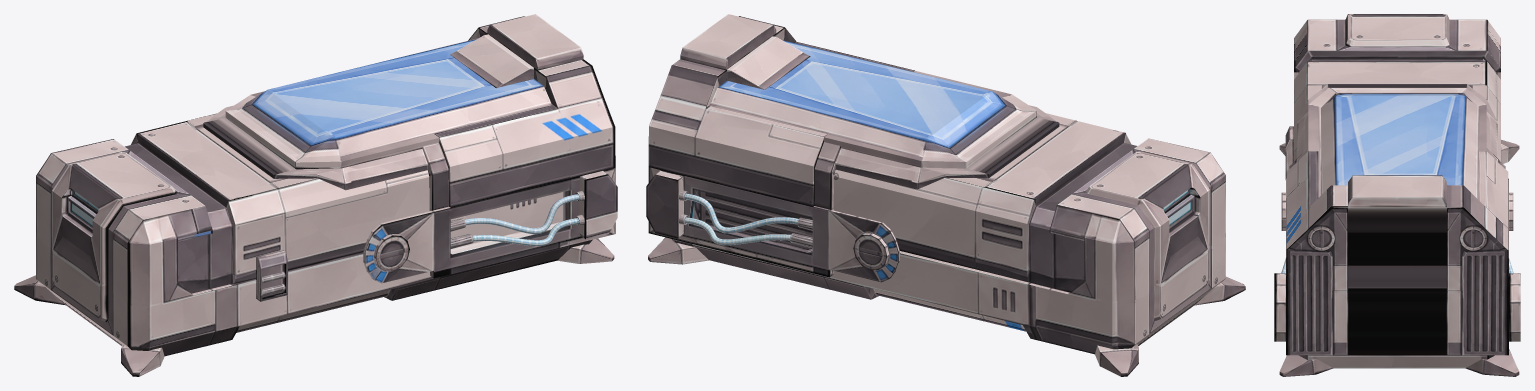
Rendered from 22_Capsule_Rere.fbx.
3 renders of one model, left to right at view 1: azimuth 30°, elevation 25°; view 2: azimuth 150°, elevation 25°; view 3: azimuth 270°, elevation 25°, orthographic. The views are drawn at different scales.
Visible parts, largest first — view 1: Box002, Object003; view 2: Box002, Object003; view 3: Box002, Object003.
Boxes of the visible parts, x1,y1,x2,y2 form: Box002: (14,14,617,376); Object003: (225,34,552,169); Box002: (646,14,1245,376); Object003: (709,36,1036,168); Box002: (1274,14,1520,376); Object003: (1308,88,1486,200).
Size of the model in its own units: 291 by 106 by 131.
1 material, 1 textured.
